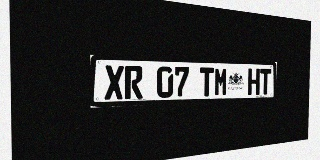0: (157, 66, 173, 98)
7: (174, 67, 189, 98)
H: (248, 68, 260, 95)
M: (214, 68, 228, 96)
R: (125, 66, 143, 99)
T: (200, 67, 214, 97), (260, 69, 271, 95)
X: (104, 65, 124, 100)
